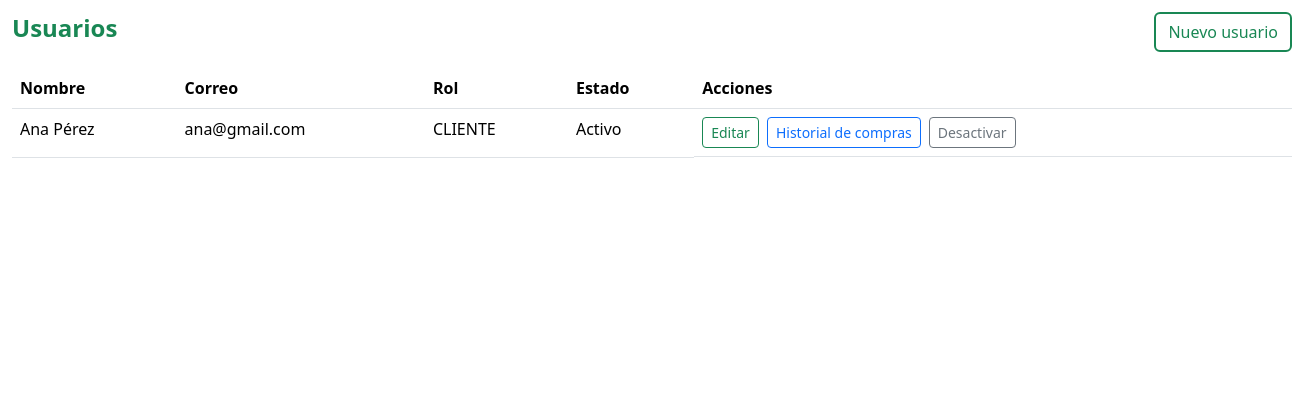
el historial del usuario muestra únicamente sus compras
This screenshot has width=1304, height=397.
Click the button with aria-label "Historial de Ana Pérez". click: click(844, 132)
box: [767,117,921,148]
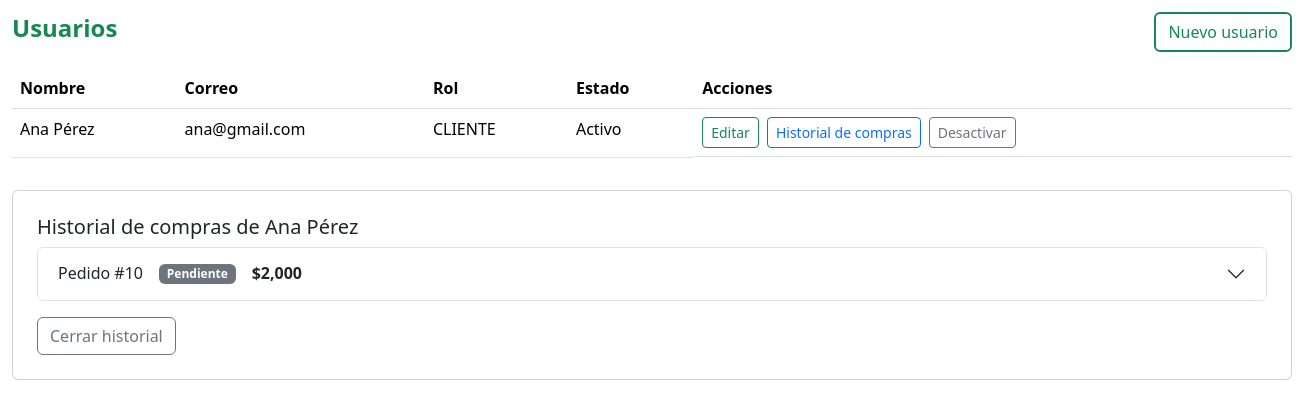
Expected: the text "Pedido #10" is shown, [58,264,143,283]
